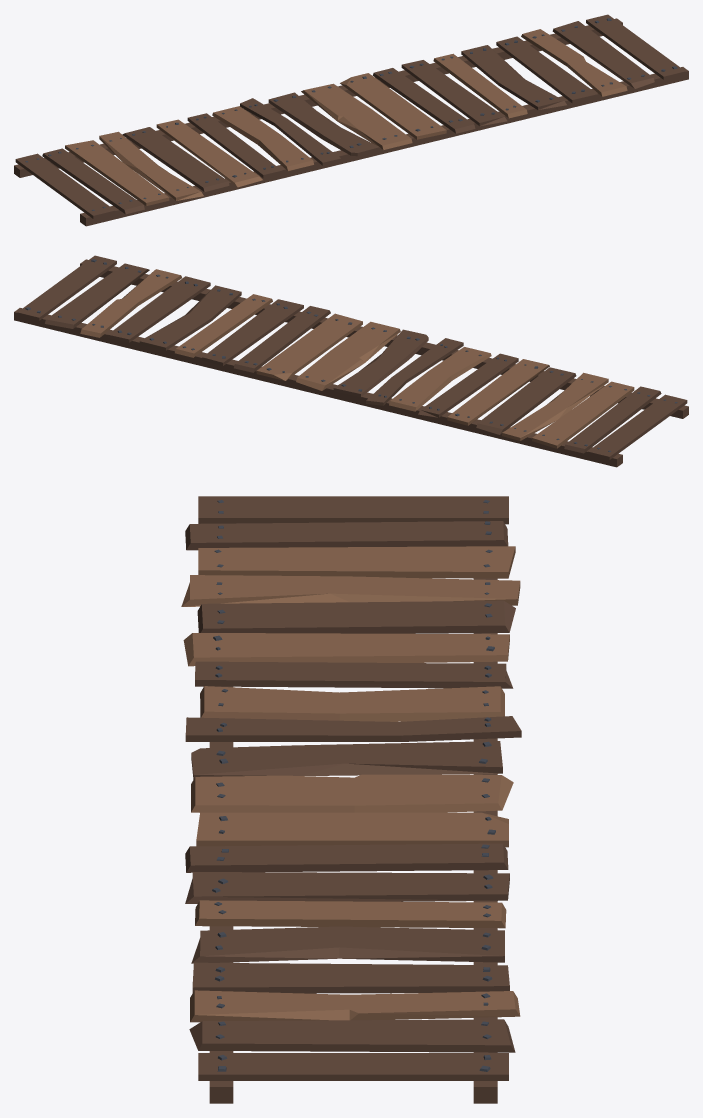
File: FootBridge_1_1 Asia.fbx
The picture shows the model from 3 angles, top to bottom: view 1: azimuth 30°, elevation 25°; view 2: azimuth 150°, elevation 25°; view 3: azimuth 270°, elevation 25°; orthographic projection. The views are drawn at different scales.
Visible parts, largest first — view 1: FootBridge_1_1; view 2: FootBridge_1_1; view 3: FootBridge_1_1.
Boxes of the visible parts, x1=… form: FootBridge_1_1: x1=14, y1=14, x2=688, y2=226; FootBridge_1_1: x1=14, y1=255, x2=688, y2=467; FootBridge_1_1: x1=181, y1=496, x2=521, y2=1103.
Bounding box in the file's own units: 8.46 × 0.1695 × 2.07.
